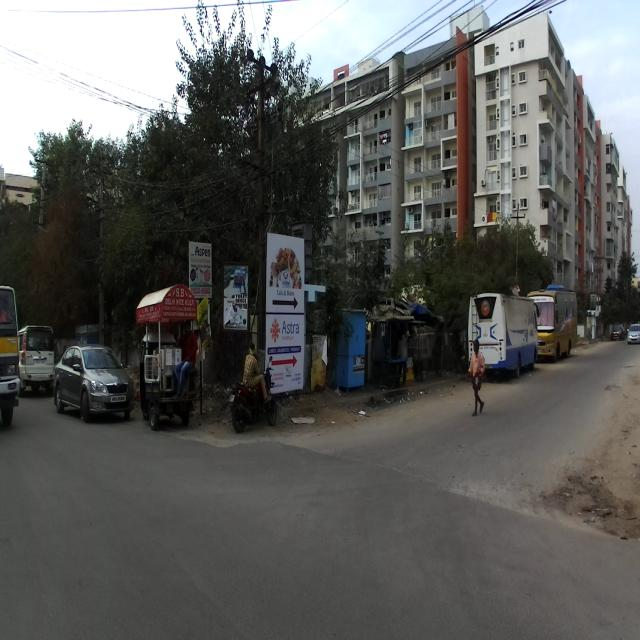car ahead at: (54, 340, 131, 432)
